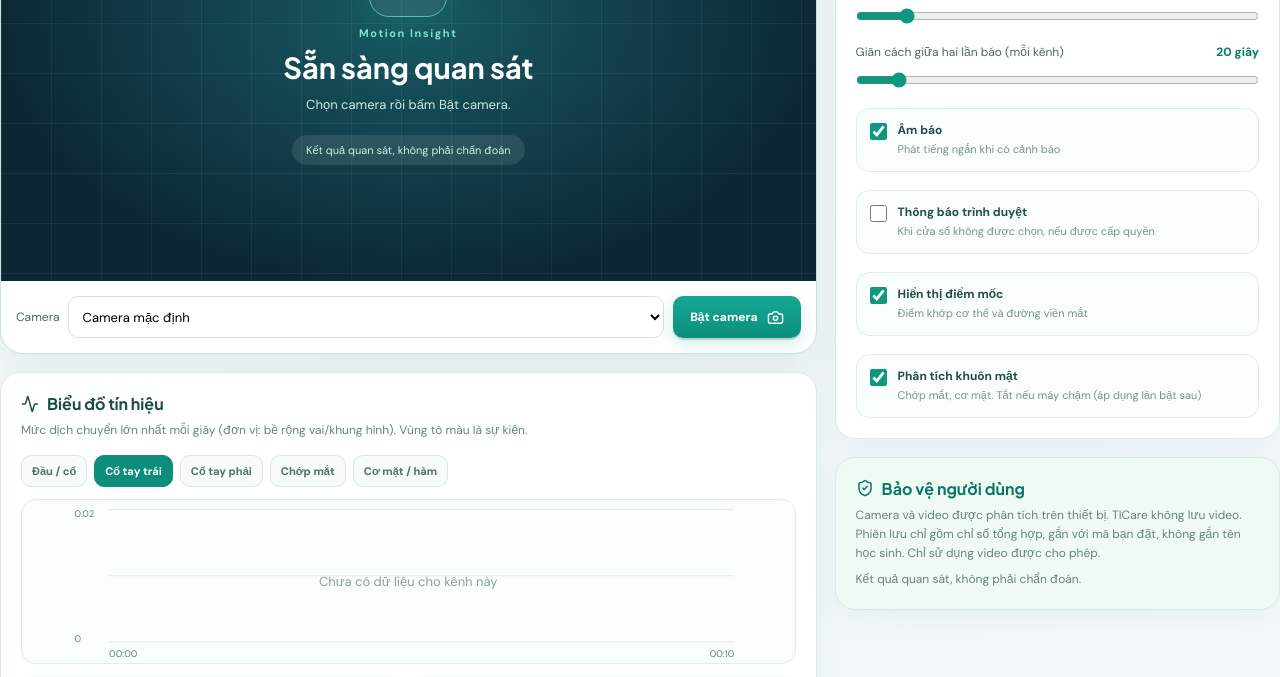
Test case: Motion: consent gate (T6.4) › cancelling the gate never starts the camera
(page scrolled)
Click the button "Bật camera" at (737, 317), box [673,296,801,338]
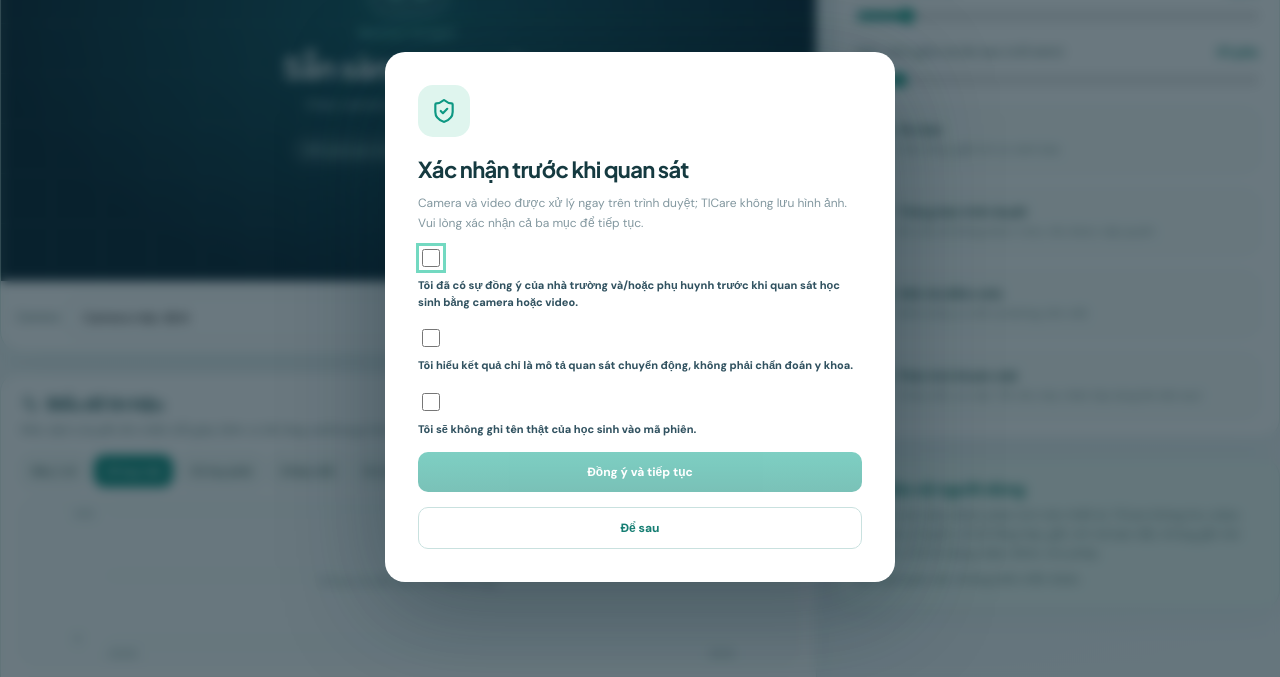
Click the button "Để sau" at (640, 528), box [418,507,862,549]
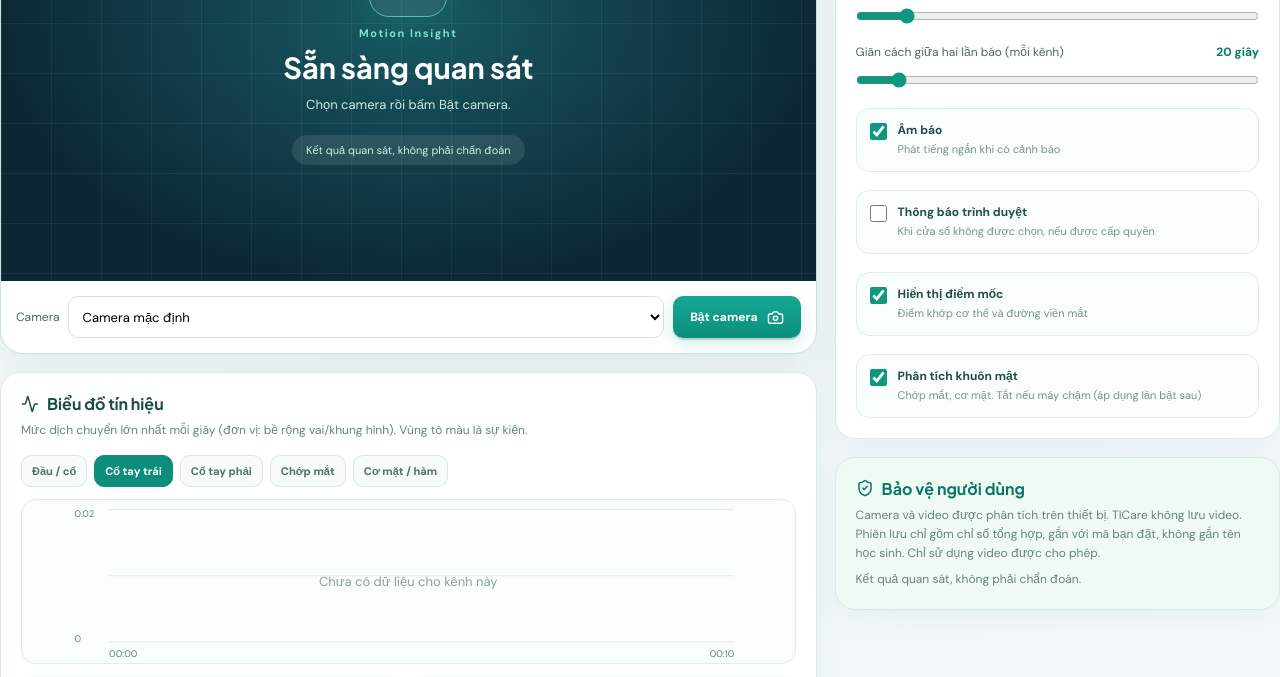
Check: the dialog is gone
